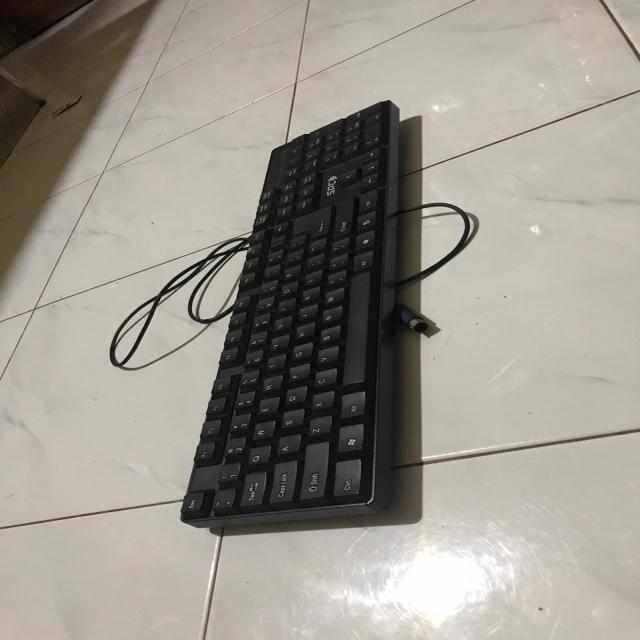-mouse-: (179, 90, 400, 522)
